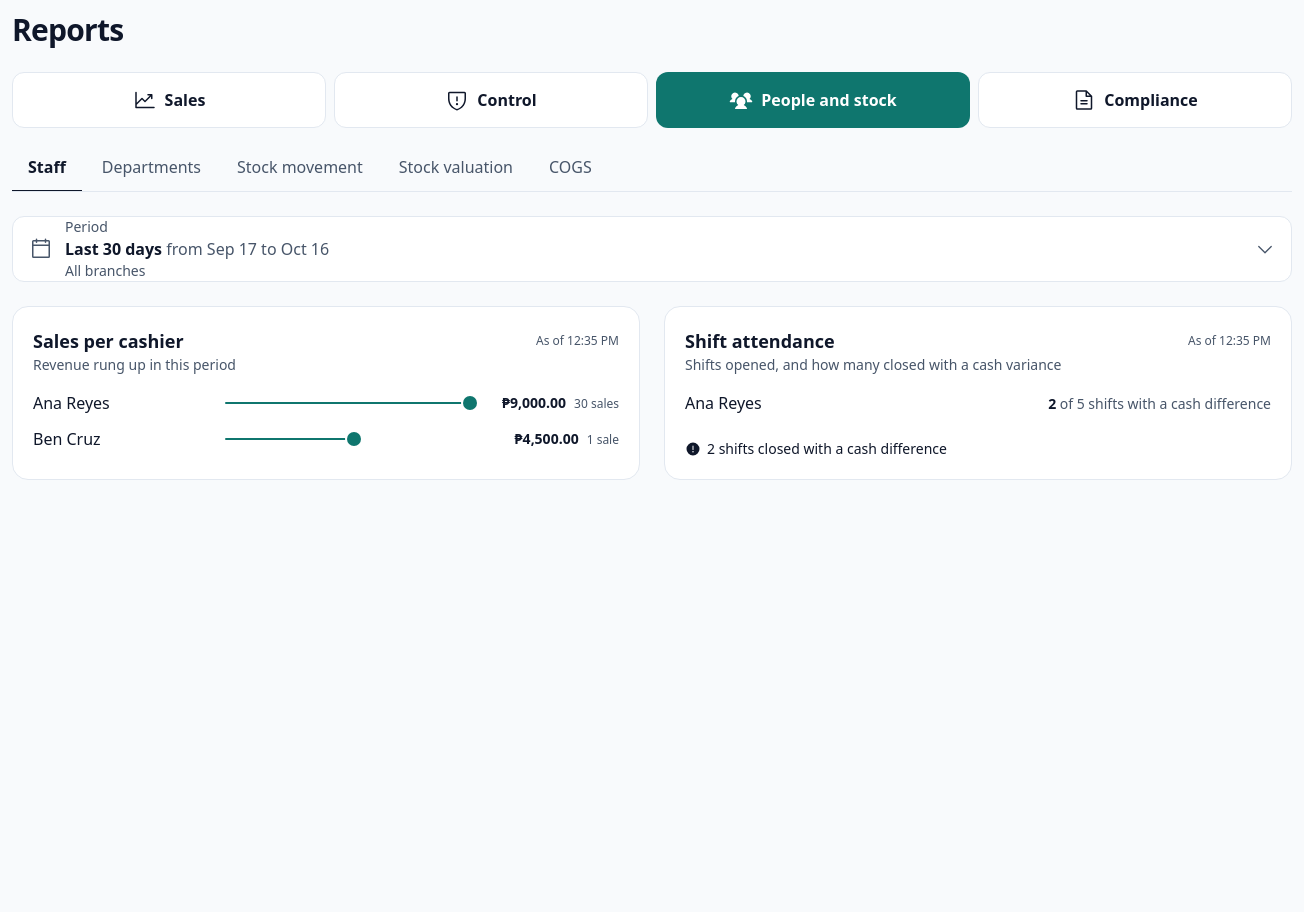
Scenario: range reports › does not fetch while a custom range is reversed, and says why
The image size is (1304, 912).
Check: the text "30 sales" is shown, box [574, 396, 619, 412]
Click the button "Period Last 30 days from Sep 17 to Oct 16 All branches" at (86, 226), box [12, 216, 1292, 282]
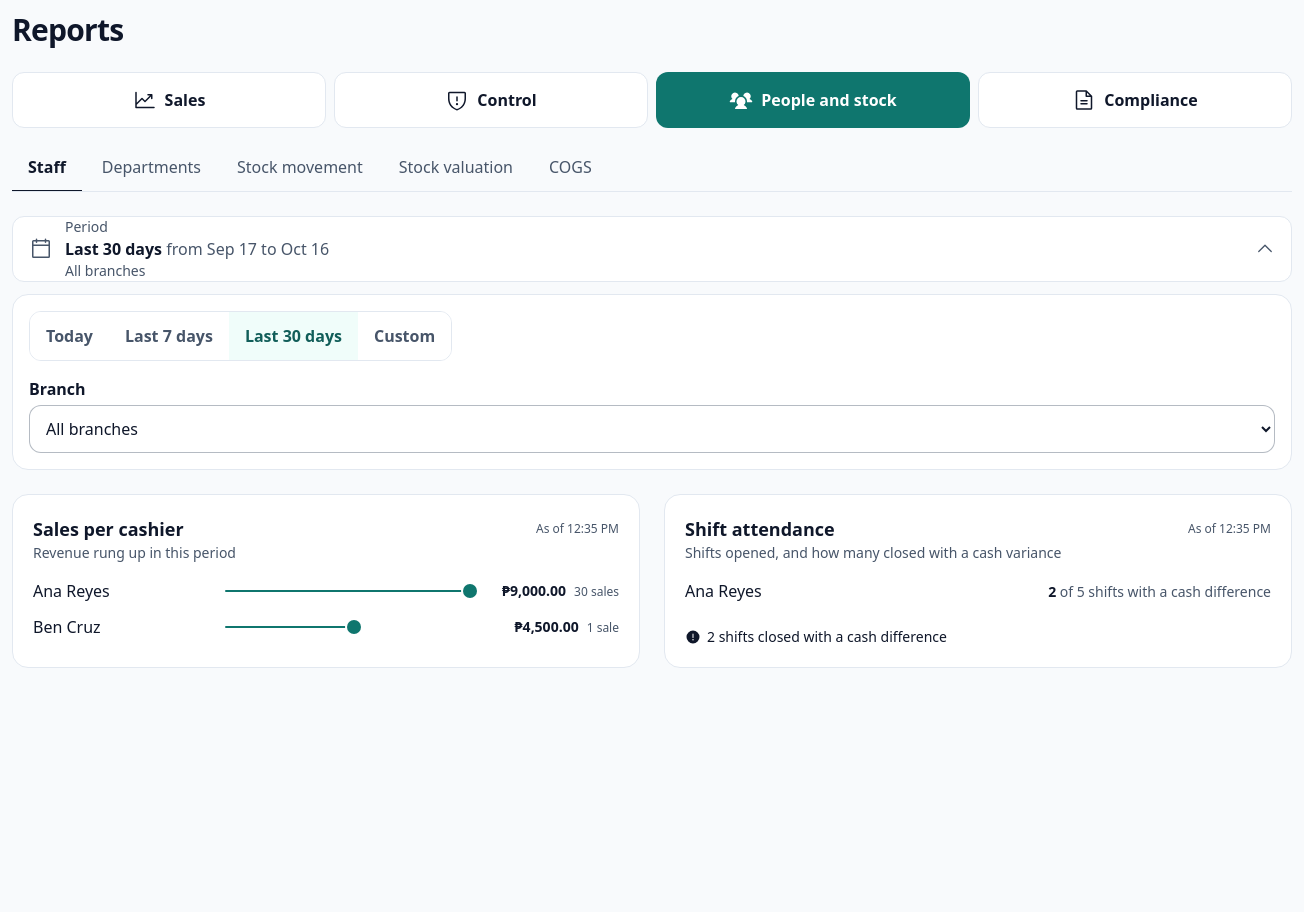
Click the button "Custom" at (405, 336), box [358, 312, 451, 360]
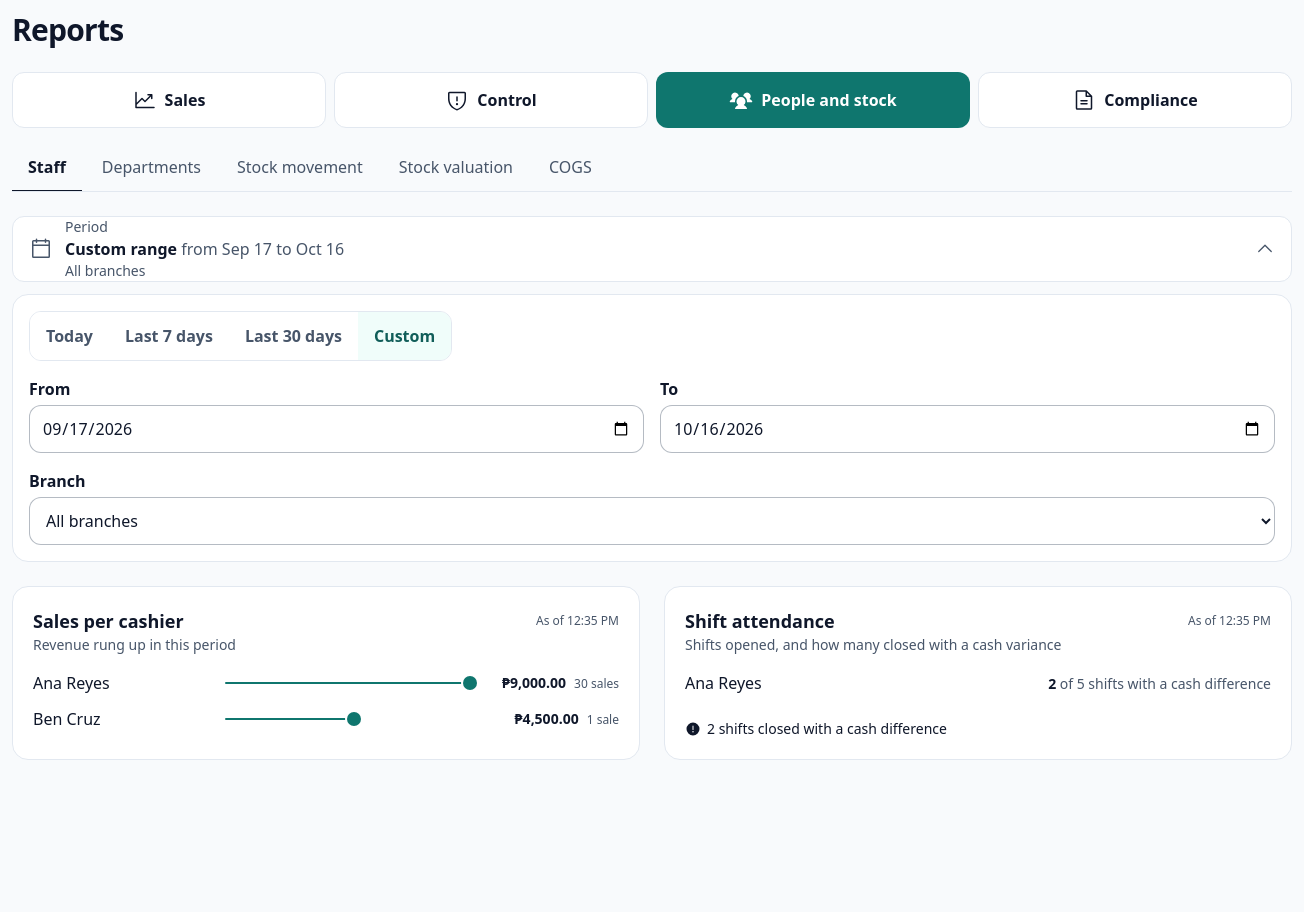
Type "2026-09-10" into the date field labelled "From" at (336, 429), box [29, 405, 644, 453]
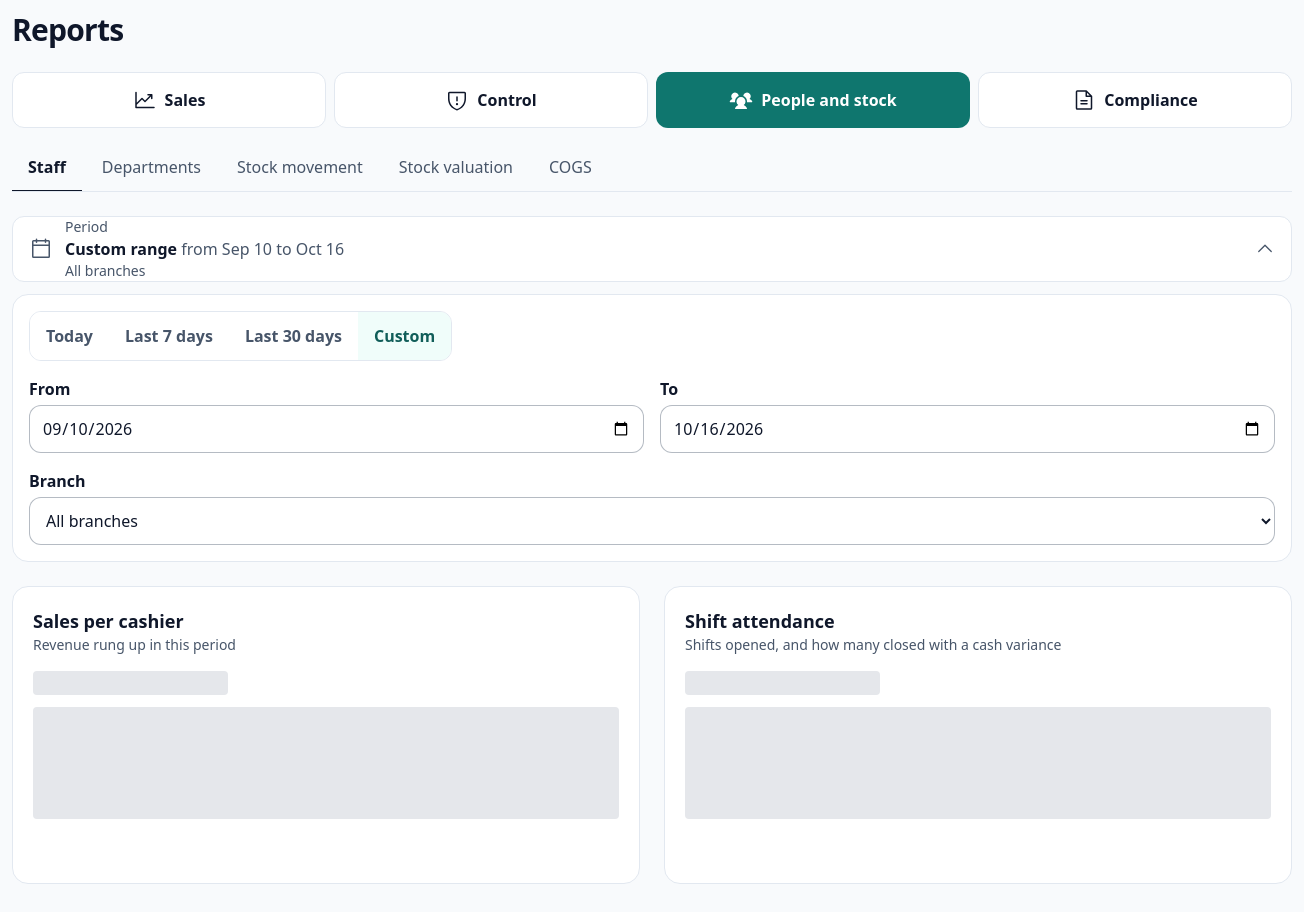
Type "2026-09-20" into the date field labelled "To" at (968, 429), box [660, 405, 1275, 453]
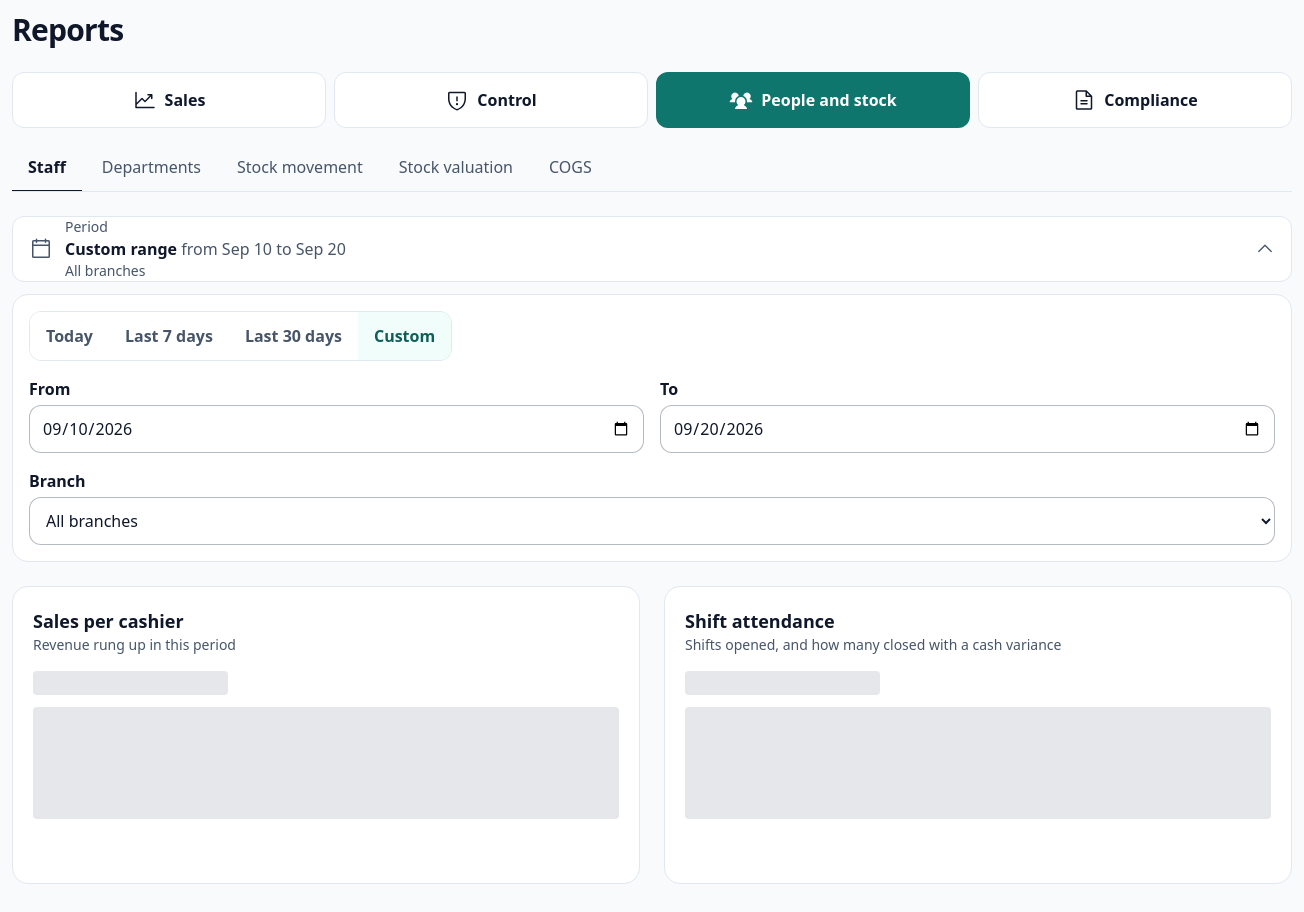
Type "2026-09-01" into the date field labelled "To" at (968, 429), box [660, 405, 1275, 453]
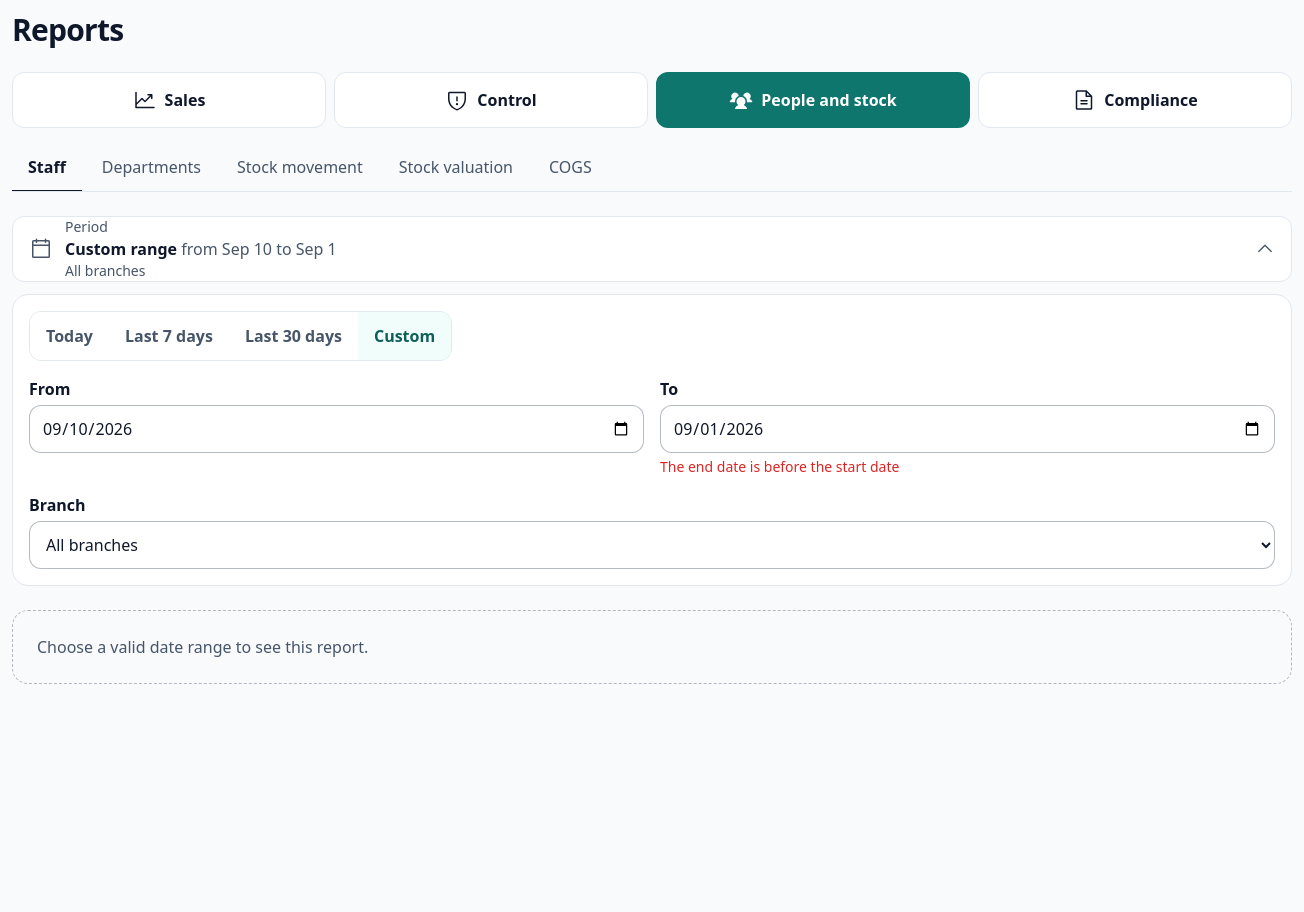
Check: the text "The end date is before the start date" is shown, box [660, 457, 899, 476]
Check: the text "Choose a valid date range to see this report." is shown, box [12, 610, 1292, 684]
